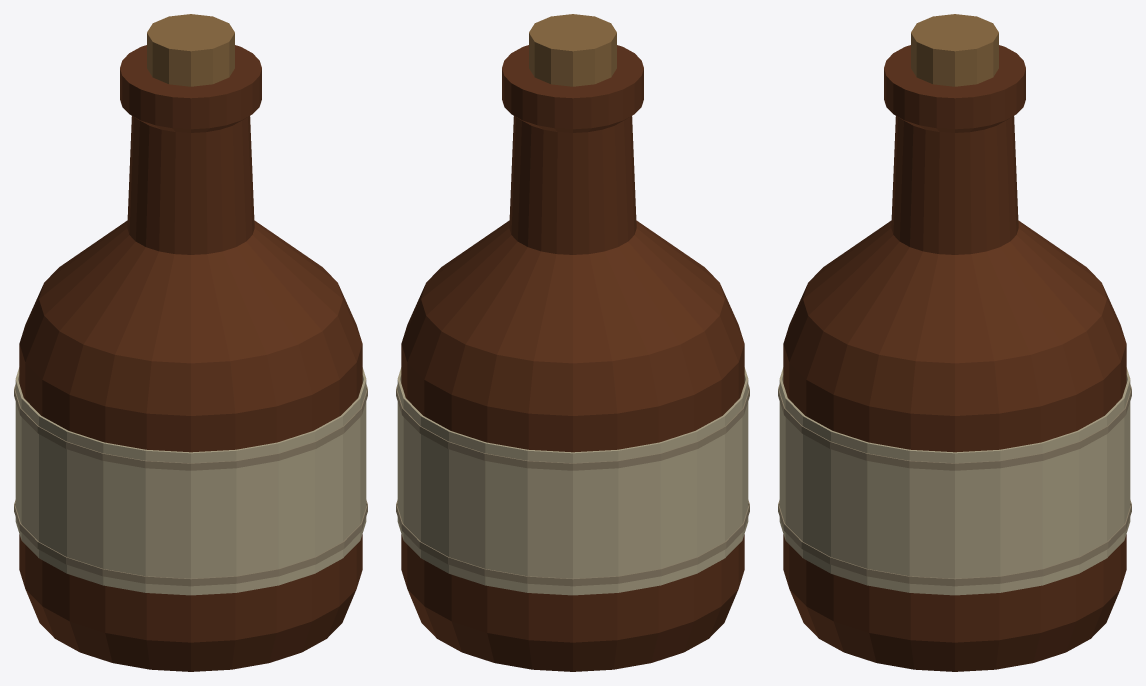
File: AmberBottle.glb
The picture shows the model from 3 angles, left to right: view 1: azimuth 30°, elevation 25°; view 2: azimuth 150°, elevation 25°; view 3: azimuth 270°, elevation 25°; orthographic projection.
Visible parts, largest first — view 1: BottleBody.001, BlankPaperBand.001, CorkStopper.001, LabelBorder.002, LabelBorder.003; view 2: BottleBody.001, BlankPaperBand.001, CorkStopper.001, LabelBorder.002, LabelBorder.003; view 3: BottleBody.001, BlankPaperBand.001, CorkStopper.001, LabelBorder.002, LabelBorder.003.
Boxes of the visible parts, <box> form: BottleBody.001: <box>19,45,362,671</box>; BlankPaperBand.001: <box>15,367,366,595</box>; CorkStopper.001: <box>147,14,234,86</box>; LabelBorder.002: <box>14,500,367,586</box>; LabelBorder.003: <box>14,384,367,470</box>; BottleBody.001: <box>401,45,744,671</box>; BlankPaperBand.001: <box>397,367,748,595</box>; CorkStopper.001: <box>529,14,616,86</box>; LabelBorder.002: <box>396,500,749,586</box>; LabelBorder.003: <box>396,384,749,470</box>; BottleBody.001: <box>783,45,1126,671</box>; BlankPaperBand.001: <box>779,367,1130,595</box>; CorkStopper.001: <box>911,14,998,86</box>; LabelBorder.002: <box>778,500,1131,586</box>; LabelBorder.003: <box>778,384,1131,470</box>.
Bounding box in the file's own units: 0.722 × 1.29 × 0.722.
